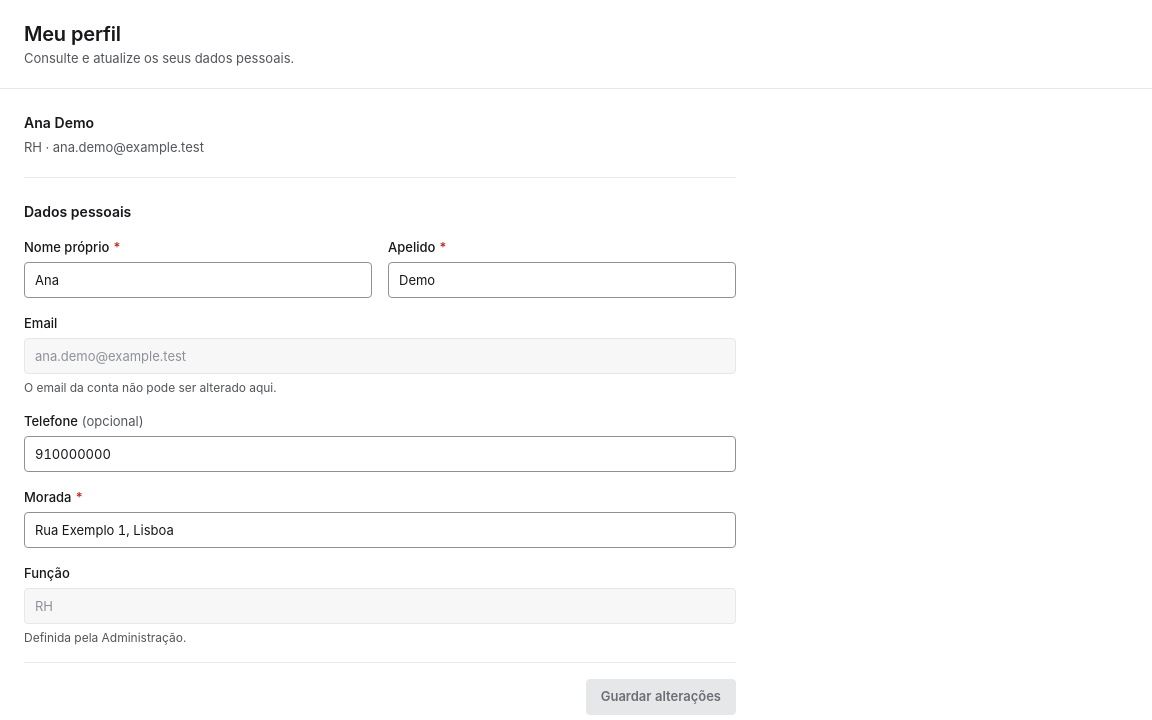
Test: Meu perfil › shows a save failure (concurrency) as a form error
In the field labelled "Telefone (opcional)": (380, 454) [24,436,736,472], type "1"
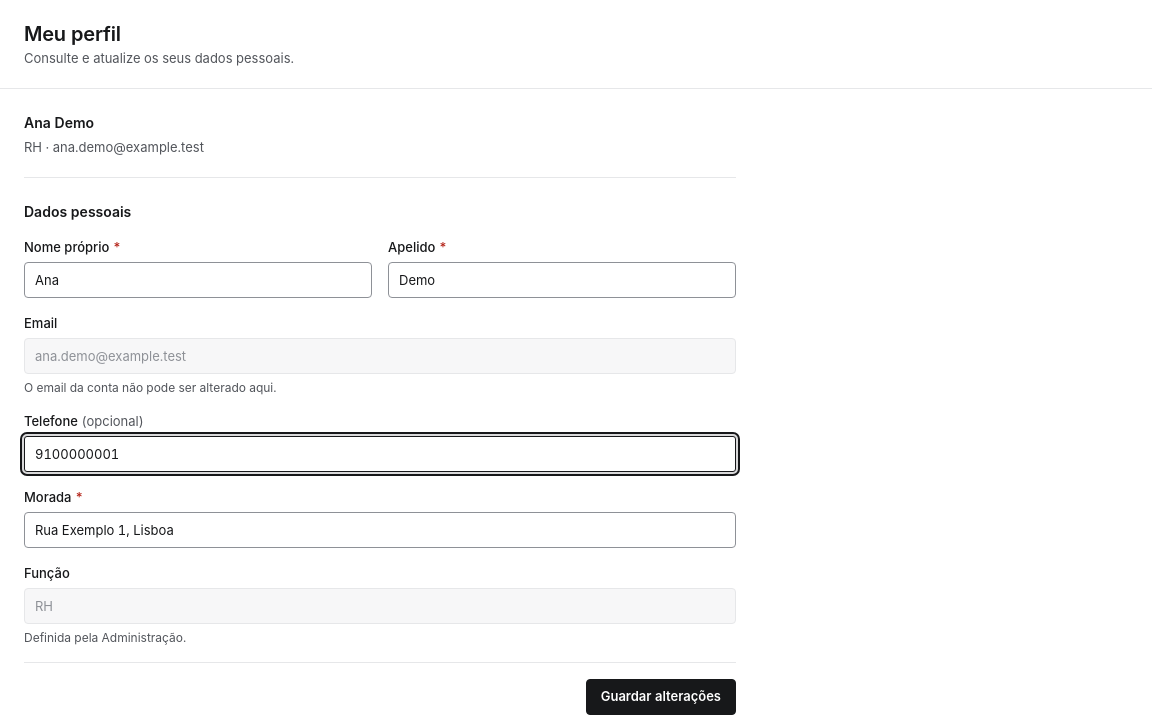
Click the button "Guardar alterações": (661, 697) [586,679,736,715]
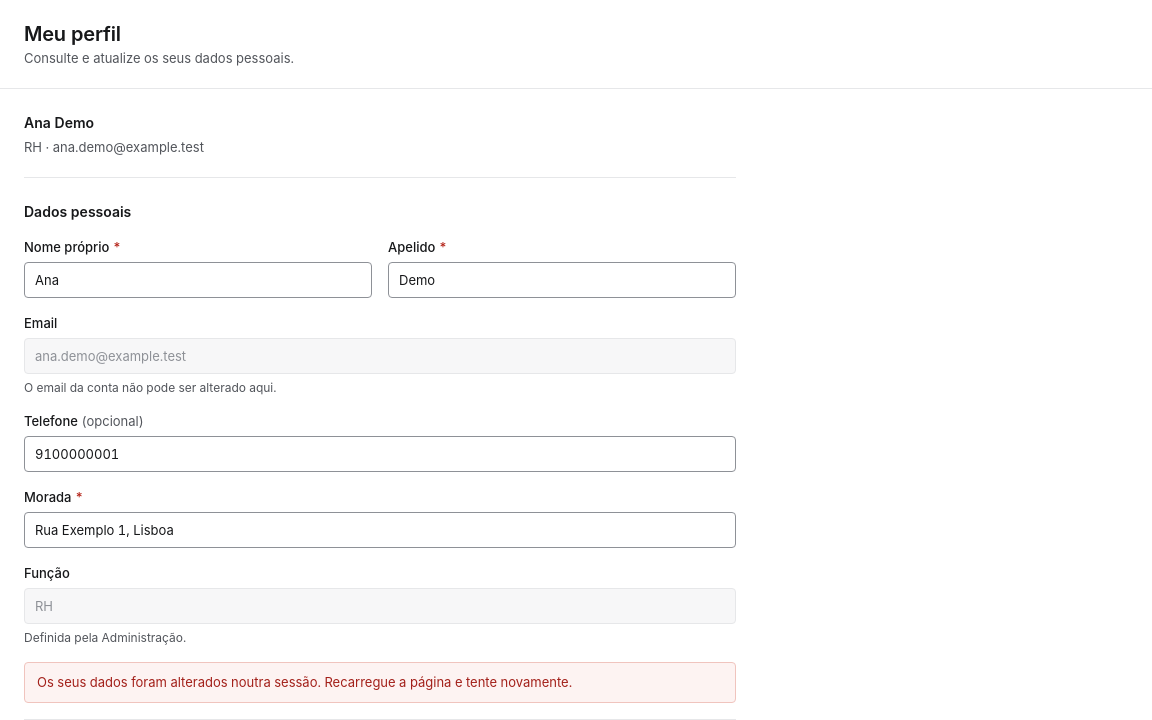
Now the message shows "Os seus dados foram alterados noutra sessão.", box [37,674,572,690]
